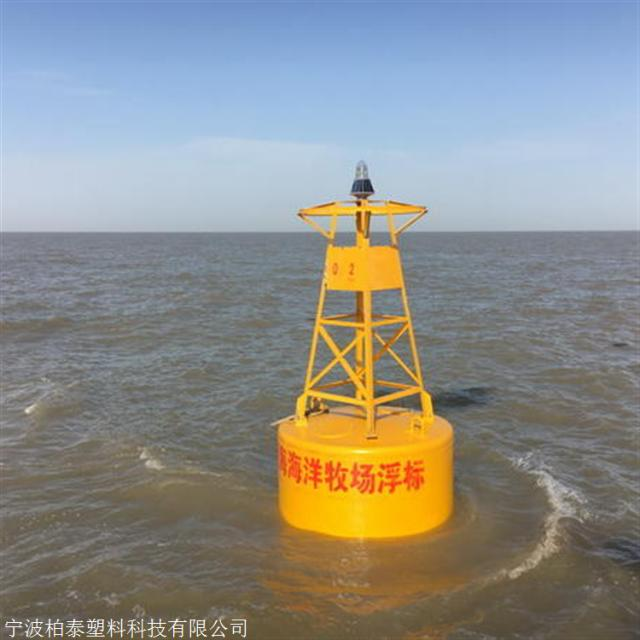buoy: (274, 153, 467, 533)
